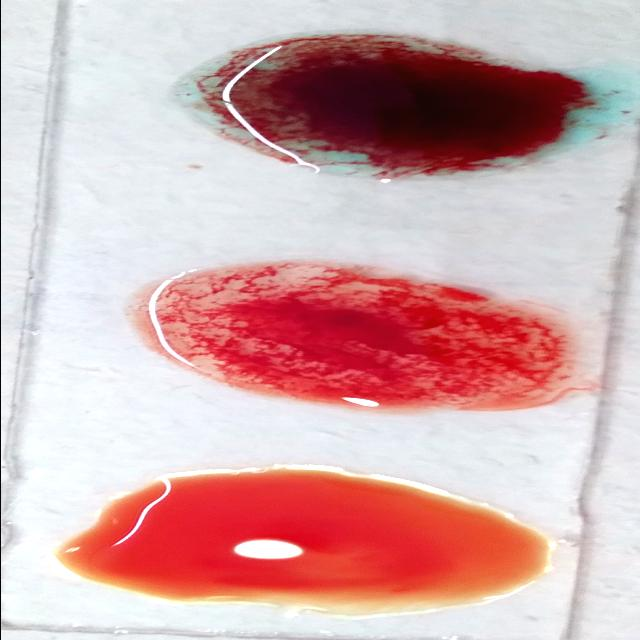A: (152, 32, 628, 183)
D: (151, 260, 584, 406)
